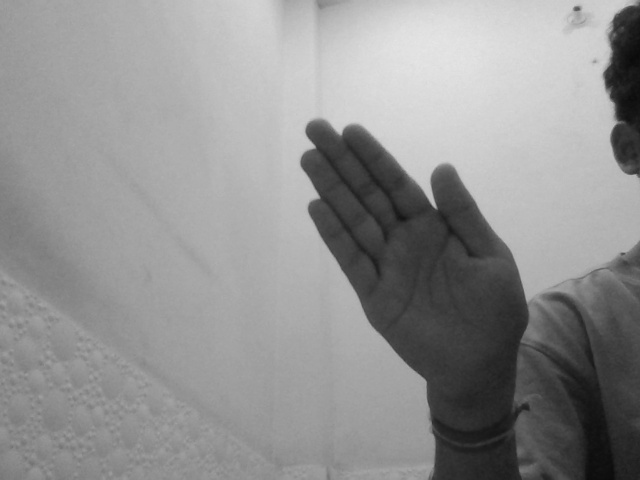Hello: (296, 116, 532, 401)
